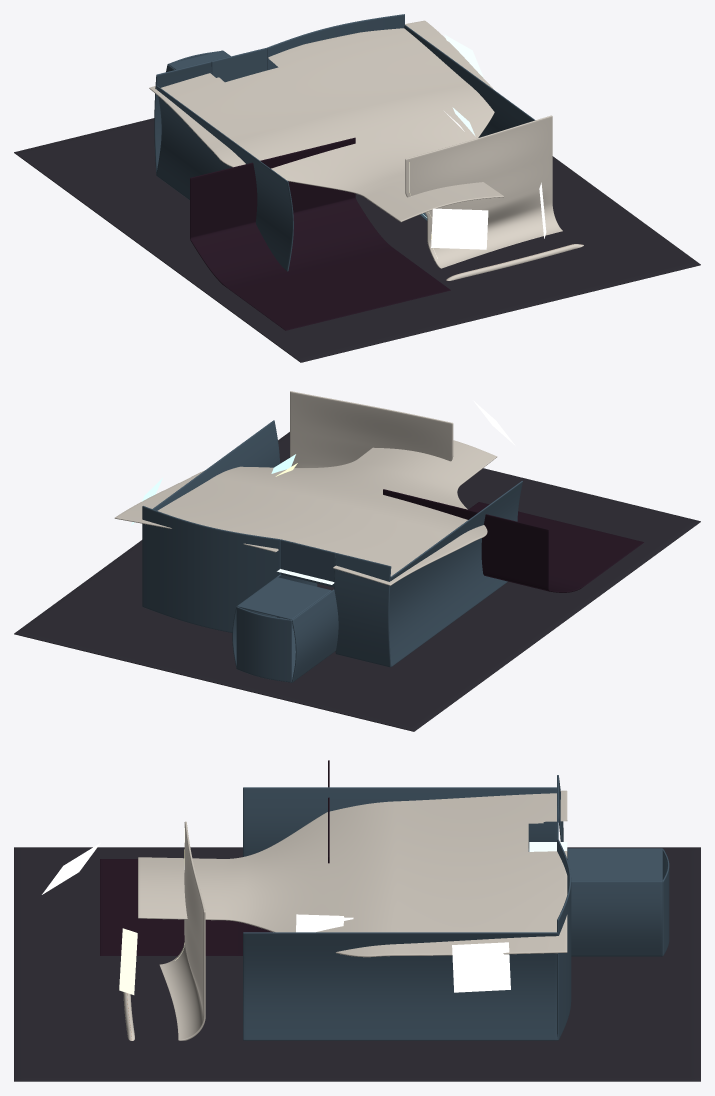
File: chamber.glb
The picture shows the model from 3 angles, top to bottom: view 1: azimuth 30°, elevation 25°; view 2: azimuth 150°, elevation 25°; view 3: azimuth 270°, elevation 25°; orthographic projection. The views are drawn at different scales.
Visible parts, largest first — view 1: Shared_Light_Chamber, Shared_Unfolding_Canopy, Shared_Sculpted_Cove, Warm portrait softbox, Shared_Sculpted_Foreground; view 2: Shared_Light_Chamber, Shared_Unfolding_Canopy, Shared_Sculpted_Cove; view 3: Shared_Light_Chamber, Shared_Unfolding_Canopy, Shared_Sculpted_Cove, Far cool volume, Warm portrait rim, Cool depth softbox, Warm portrait softbox.
Boxes of the visible parts, x1,y1,x2,y2 form: Shared_Light_Chamber: (14,14,700,362); Shared_Unfolding_Canopy: (149,20,503,222); Shared_Sculpted_Cove: (405,115,562,268); Warm portrait softbox: (431,208,488,249); Shared_Sculpted_Foreground: (446,244,583,280); Shared_Light_Chamber: (14,420,700,731); Shared_Unfolding_Canopy: (114,440,497,585); Shared_Sculpted_Cove: (290,391,453,467); Shared_Light_Chamber: (14,760,700,1081); Shared_Unfolding_Canopy: (138,790,567,957); Shared_Sculpted_Cove: (159,821,205,1040); Far cool volume: (452,942,510,992); Warm portrait rim: (119,928,137,994); Cool depth softbox: (296,914,343,932); Warm portrait softbox: (42,843,100,894).
Bounding box in the file's own units: 58 × 17.1 × 72.
